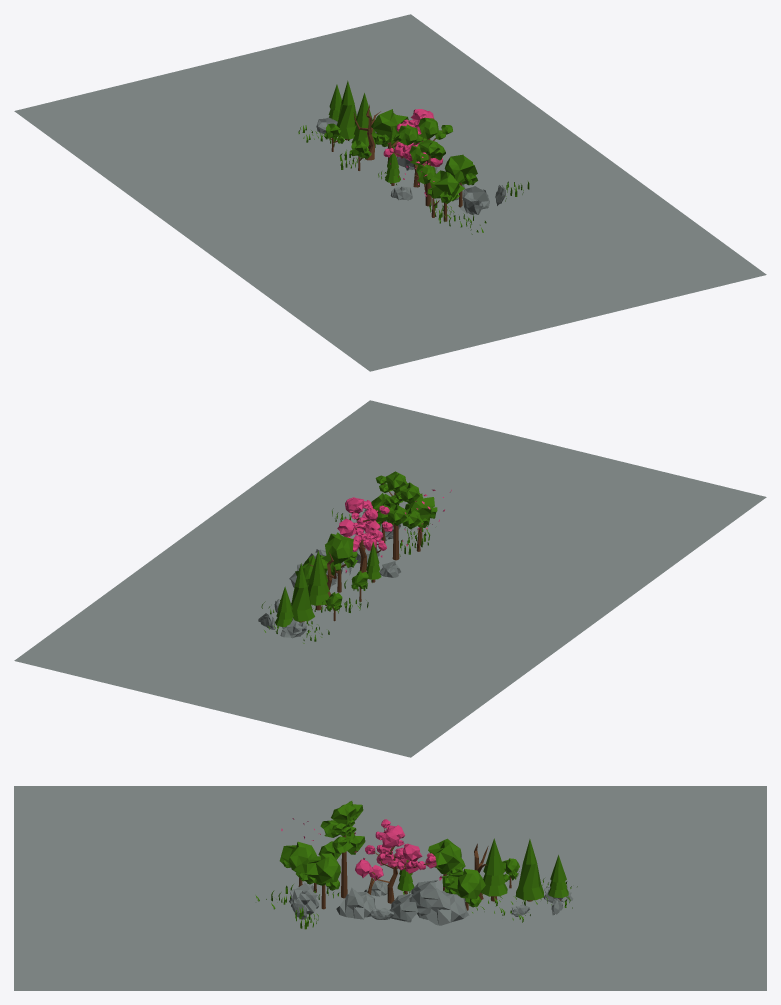
File: treesandRocks.fbx
3 views of the same model, one above another, from view 1: azimuth 30°, elevation 25°; view 2: azimuth 150°, elevation 25°; view 3: azimuth 270°, elevation 25° (orthographic). The views are drawn at different scales.
Visible parts, largest first — view 1: Куб, Окружность.014, Икосфера, Окружность, Окружность.011, Окружность.009, Окружность.010, Окружность.023; view 2: Куб, Окружность, Окружность.014, Икосфера, Окружность.011, Окружность.023, Окружность.006; view 3: Куб, Икосфера, Окружность, Окружность.014, Окружность.010, Окружность.023, Окружность.011, Окружность.022, Окружность.006, Окружность.009, Окружность.003.
Part boxes in pixels (bbox=[...]): Куб: bbox=[14, 14, 766, 371]; Окружность.014: bbox=[398, 117, 452, 206]; Икосфера: bbox=[316, 111, 505, 215]; Окружность: bbox=[372, 109, 442, 196]; Окружность.011: bbox=[371, 109, 408, 162]; Окружность.009: bbox=[427, 170, 464, 221]; Окружность.010: bbox=[444, 154, 477, 207]; Окружность.023: bbox=[336, 80, 356, 140]; Куб: bbox=[14, 400, 766, 757]; Окружность: bbox=[337, 489, 451, 572]; Окружность.014: bbox=[375, 471, 423, 560]; Икосфера: bbox=[258, 508, 400, 638]; Окружность.011: bbox=[320, 532, 357, 592]; Окружность.023: bbox=[291, 563, 314, 622]; Окружность.006: bbox=[308, 551, 329, 610]; Куб: bbox=[14, 786, 766, 990]; Икосфера: bbox=[289, 880, 573, 925]; Окружность: bbox=[281, 818, 441, 903]; Окружность.014: bbox=[318, 801, 365, 898]; Окружность.010: bbox=[303, 853, 340, 909]; Окружность.023: bbox=[515, 839, 543, 901]; Окружность.011: bbox=[428, 838, 464, 890]; Окружность.022: bbox=[444, 868, 485, 910]; Окружность.006: bbox=[481, 838, 507, 901]; Окружность.009: bbox=[279, 841, 316, 886]; Окружность.003: bbox=[548, 855, 568, 900].
Size of the model in its own units: 1692 by 444 by 2630.
